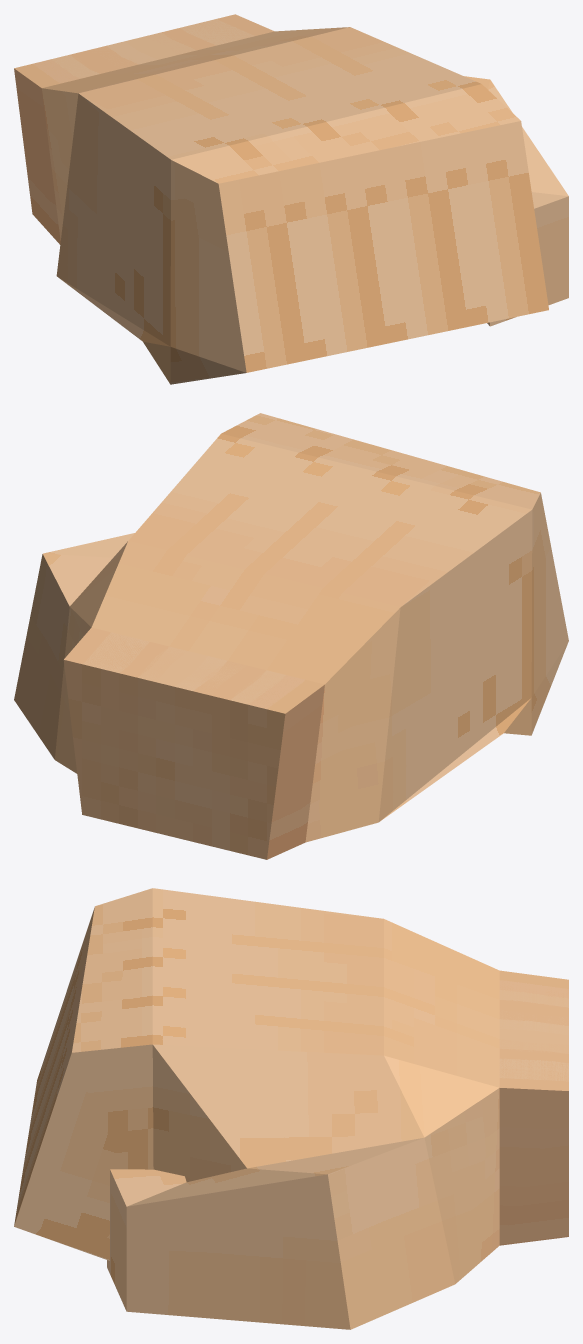
Rendered from mano_derecha.fbx.
3 renders of one model, top to bottom at view 1: azimuth 30°, elevation 25°; view 2: azimuth 150°, elevation 25°; view 3: azimuth 270°, elevation 25°, orthographic. The views are drawn at different scales.
Visible parts, largest first — view 1: cuboid; view 2: cuboid; view 3: cuboid.
Boxes of the visible parts, x1,y1,x2,y2 form: cuboid: (14,14,568,384); cuboid: (14,413,568,859); cuboid: (14,888,568,1329).
Bounding box in the file's own units: 136 × 69.29 × 150.
1 material, 1 textured.
